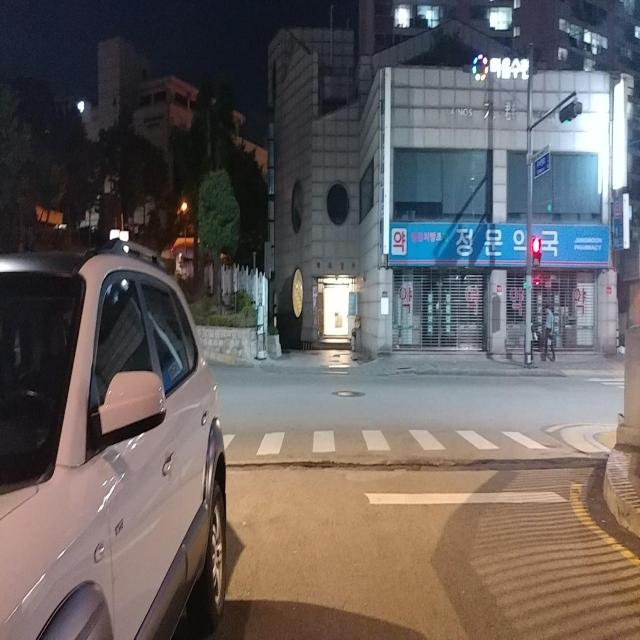빨간불: (532, 236, 542, 268)
횡단보도: (222, 426, 579, 460)
